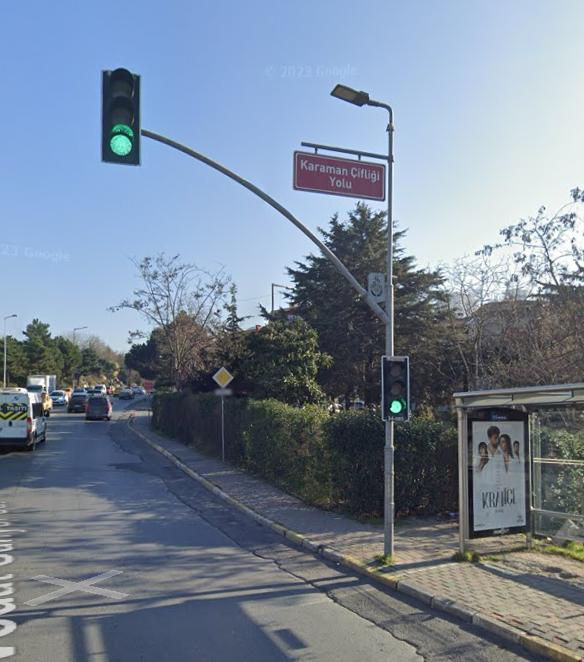greenlight: (100, 67, 143, 164), (381, 354, 410, 424)
